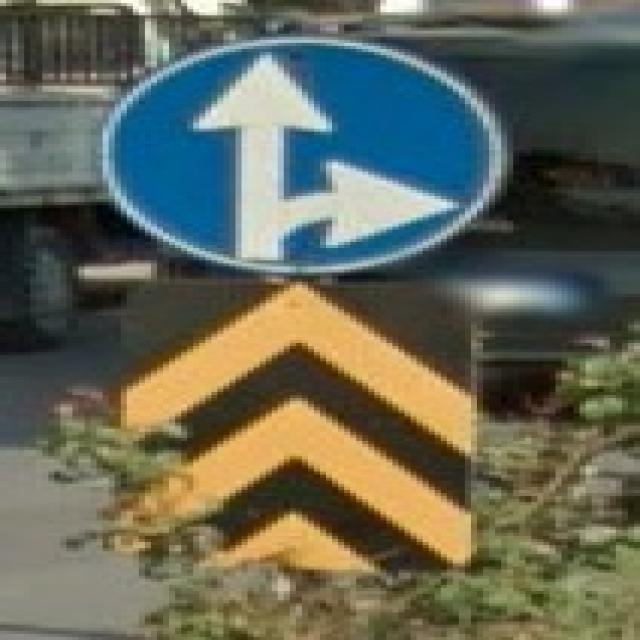Straight or Right: (107, 39, 499, 266)
